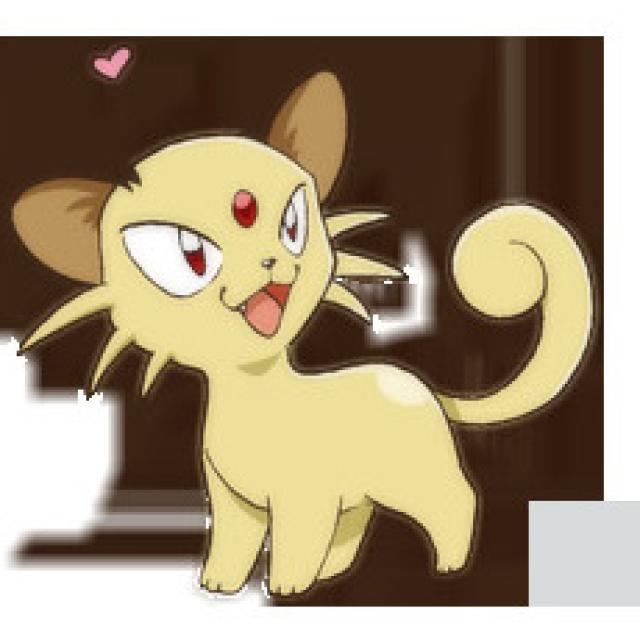Persian: (27, 84, 556, 585)
